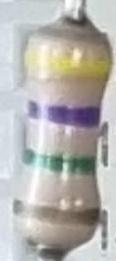Blue: (24, 97, 102, 126)
Green: (16, 142, 99, 178)
Side-Silver: (10, 197, 101, 228)
Yellow: (22, 47, 111, 84)
